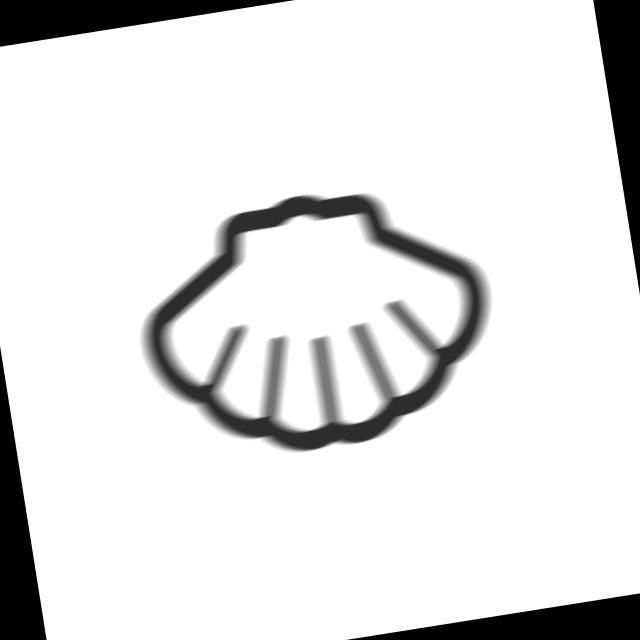shell: (113, 162, 521, 486)
